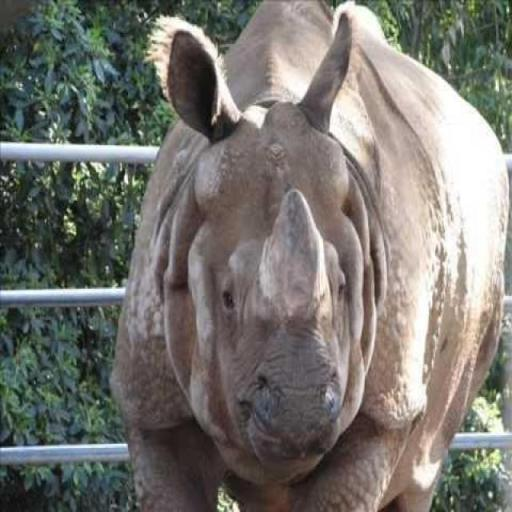Rhino: (107, 0, 510, 510)
